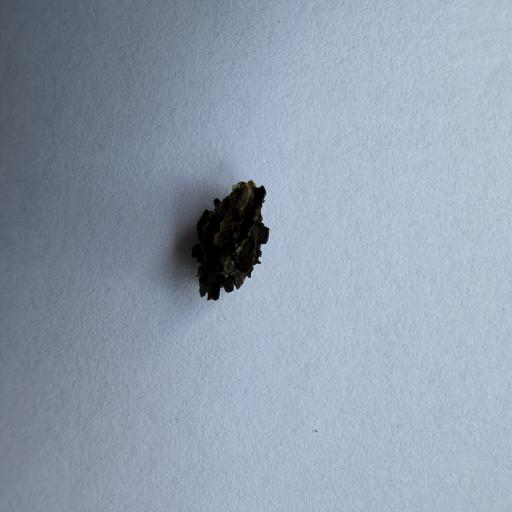papaya_seed: (188, 157, 274, 323)
